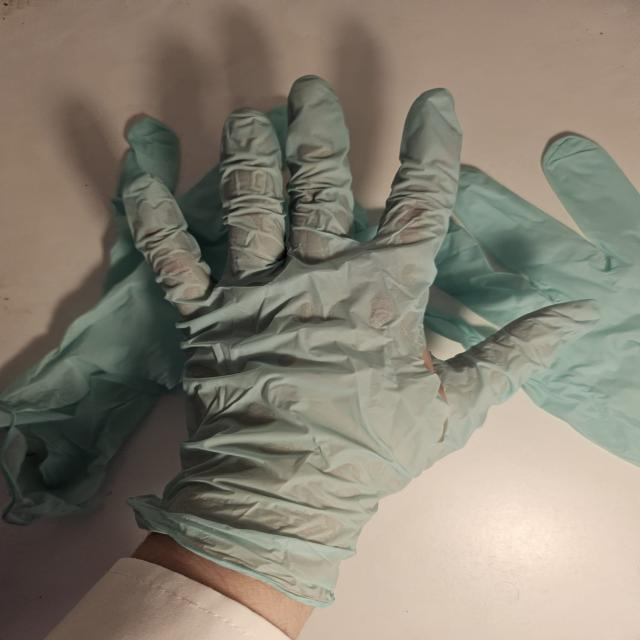gloves_damaged: (115, 73, 605, 603)
